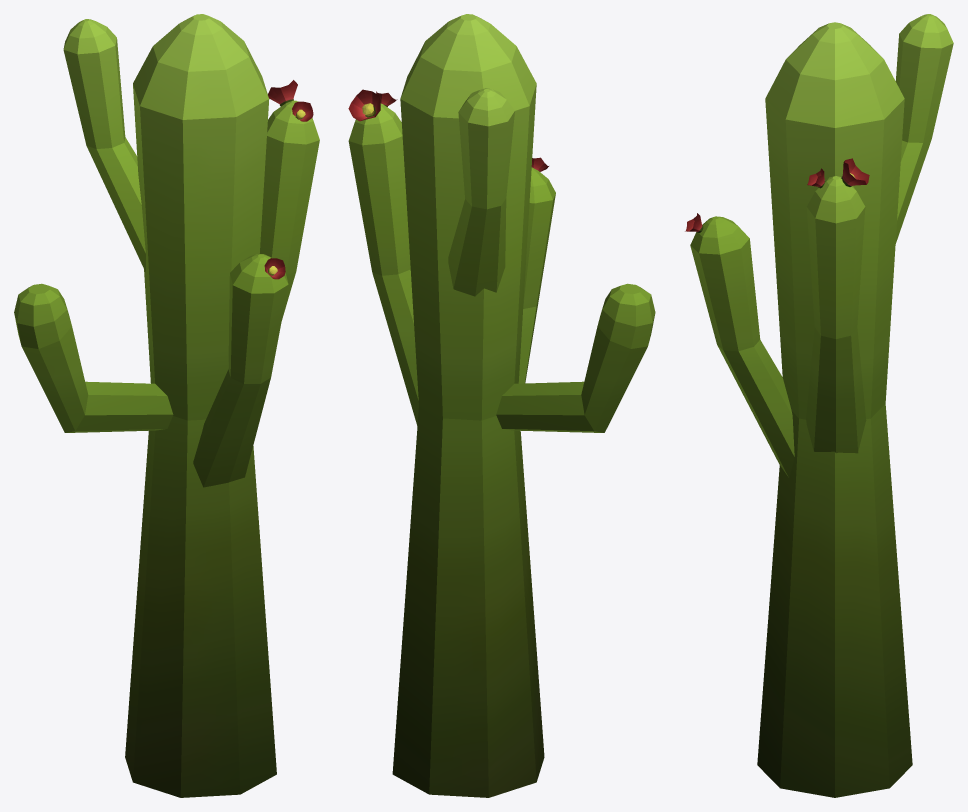
The model's file is cactus_grand.fbx.
3 renders of one model, left to right at view 1: azimuth 30°, elevation 25°; view 2: azimuth 150°, elevation 25°; view 3: azimuth 270°, elevation 25°, orthographic.
Visible parts, largest first — view 1: Cactus.007; view 2: Cactus.007; view 3: Cactus.007.
Boxes of the visible parts, x1,y1,x2,y2 form: Cactus.007: (14,14,319,797); Cactus.007: (348,14,655,797); Cactus.007: (685,14,953,797).
Bounding box in the file's own units: 182 × 433 × 143.
